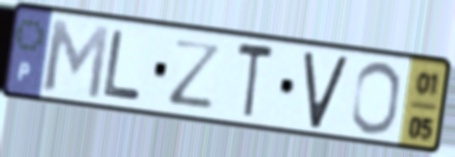L: (101, 27, 146, 103)
M: (41, 15, 113, 102)
O: (348, 59, 403, 138)
T: (234, 39, 277, 122)
V: (301, 50, 352, 132)
Z: (167, 36, 226, 112)
